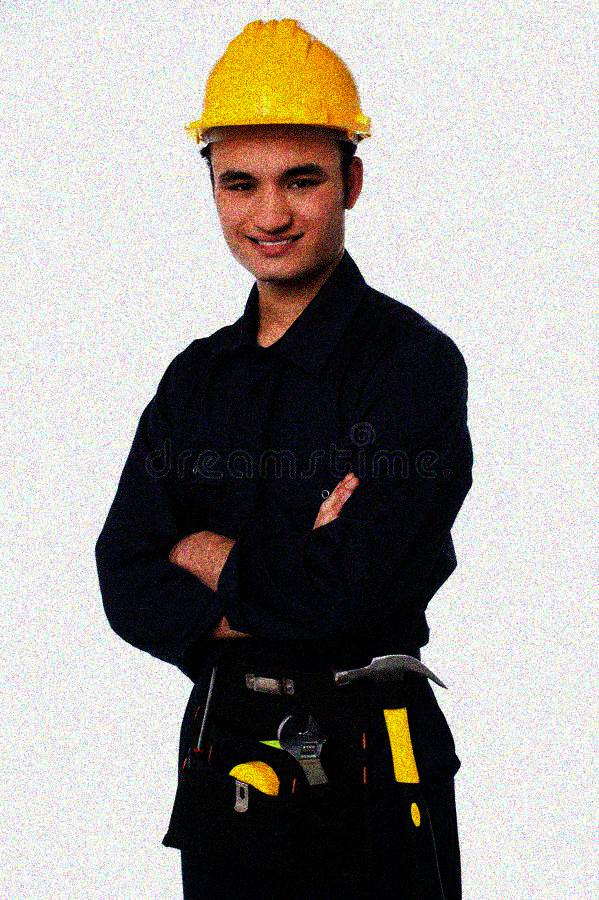helmet: (183, 16, 377, 274)
